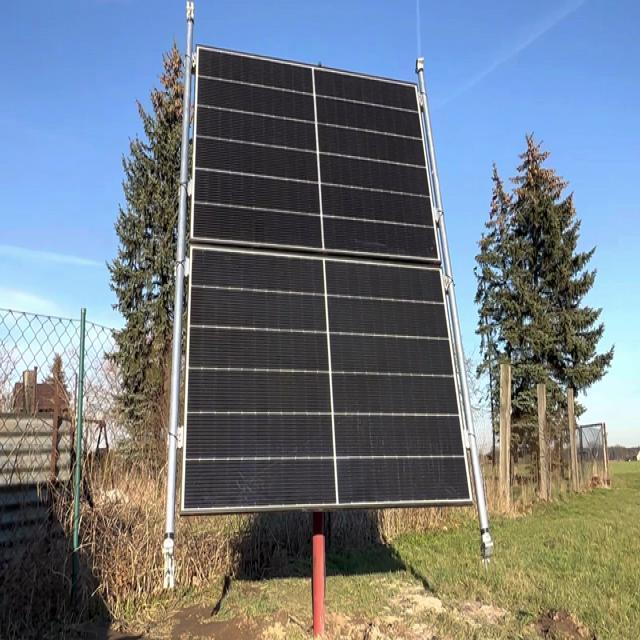Normal Solar Panel: (181, 45, 475, 512)
